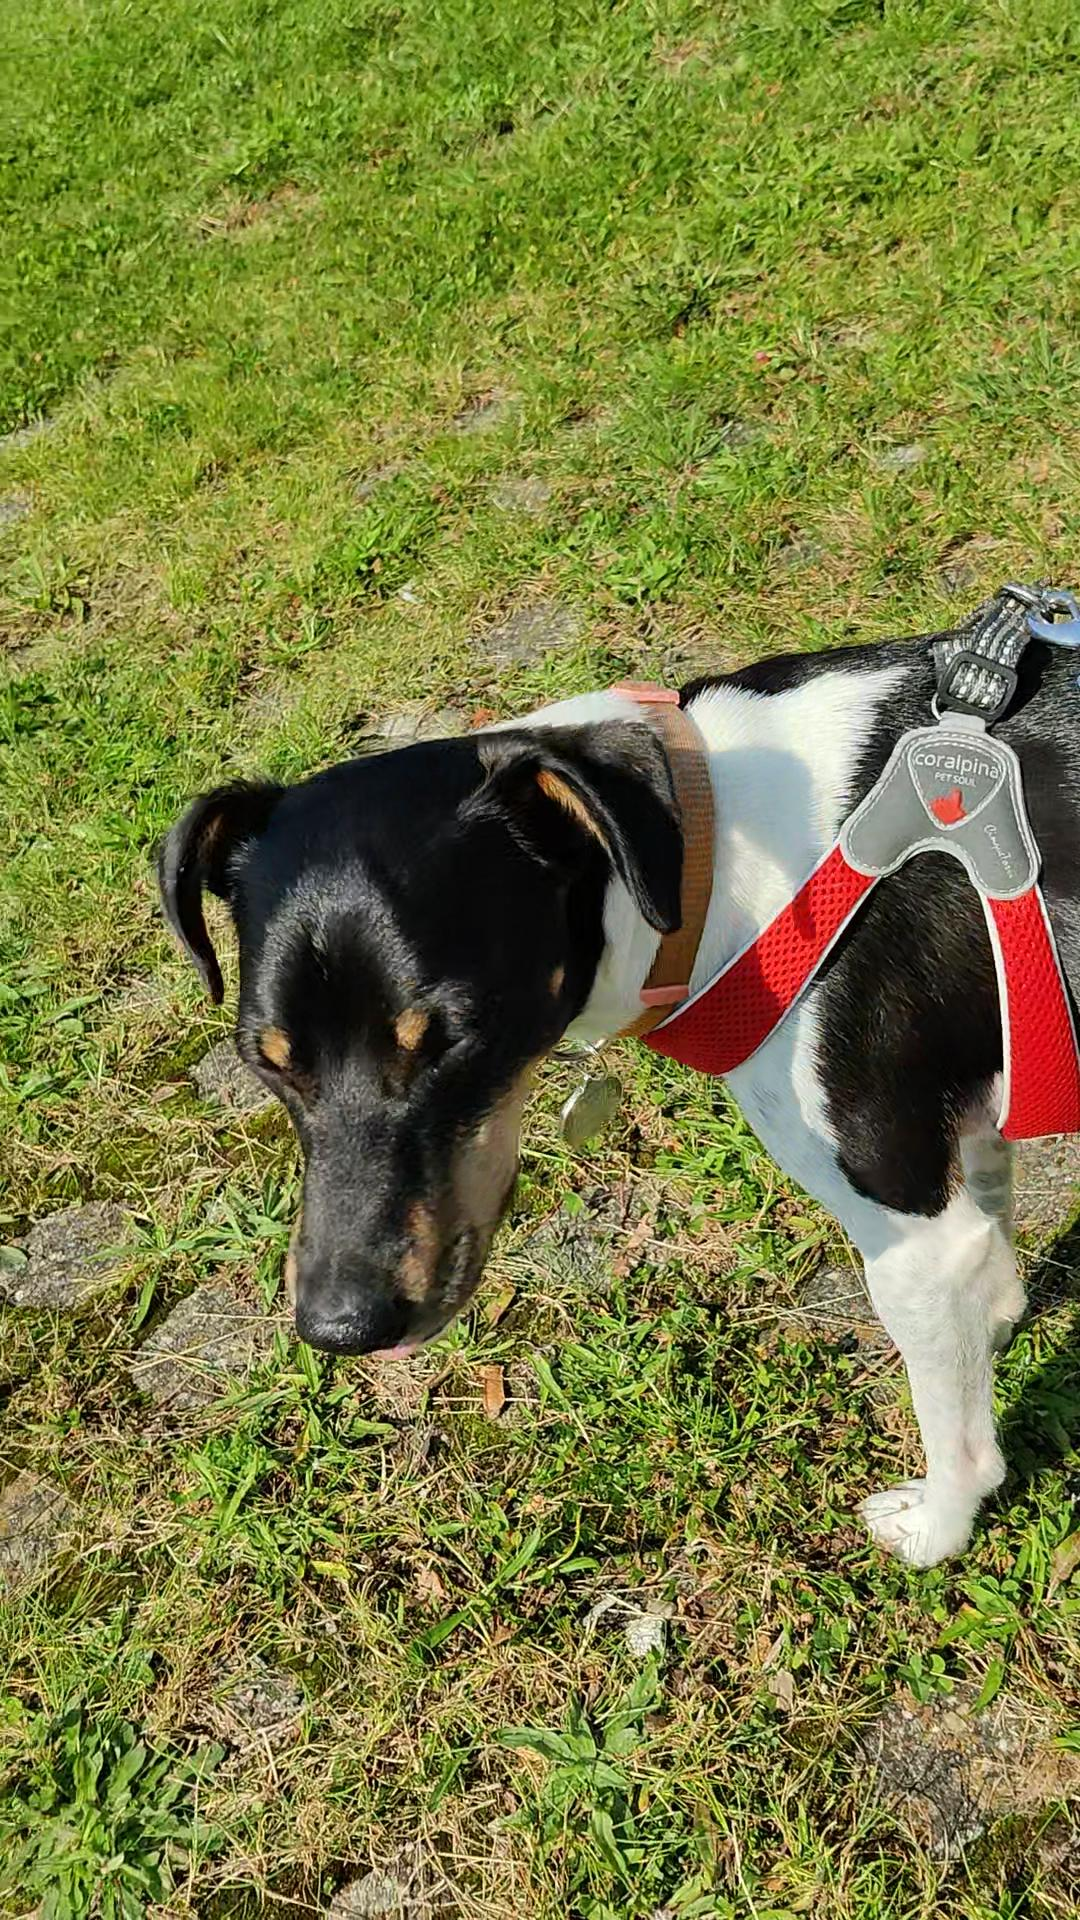Dog: (142, 549, 1079, 1585)
